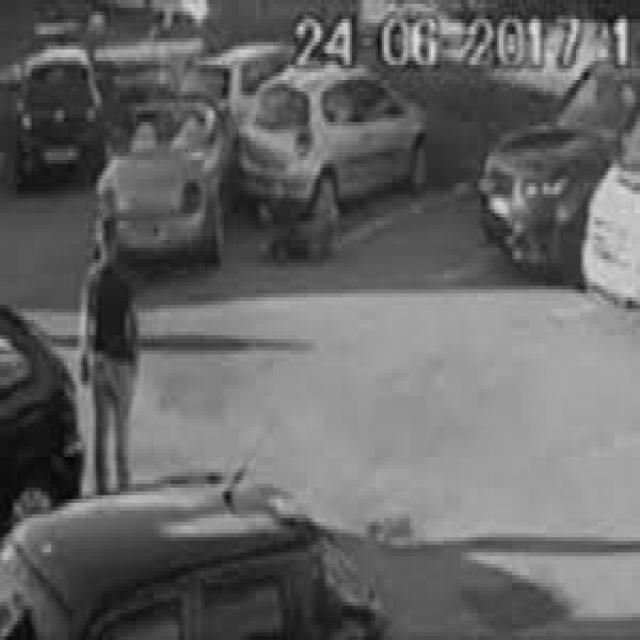accident: (89, 49, 433, 282)
vehicle: (0, 486, 424, 640), (479, 55, 631, 275), (0, 285, 88, 507), (18, 44, 109, 200)
